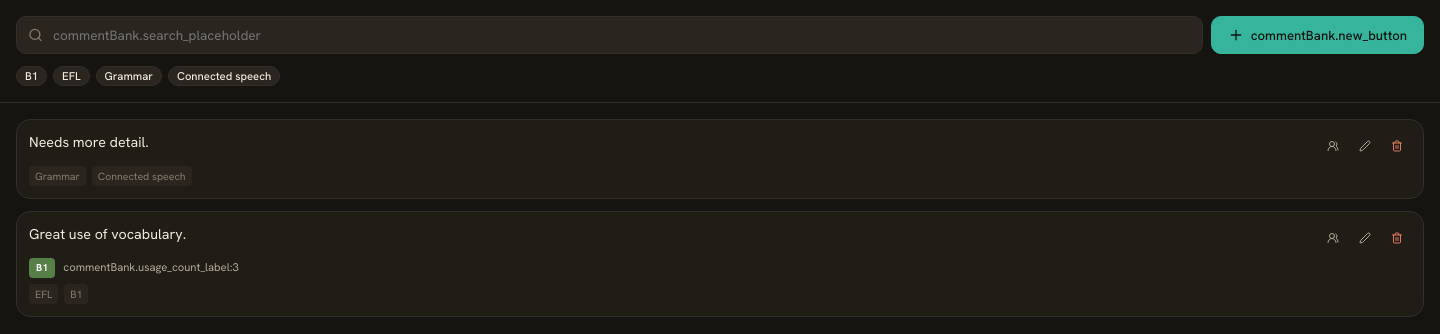
Test: CommentBankManager fullPage sidebar › labels the search box for screen readers
Step 1. Type "Needs" into the field labelled "commentBank.search_placeholder" → (609, 35), box top-left (16, 16), bottom-right (1203, 54)
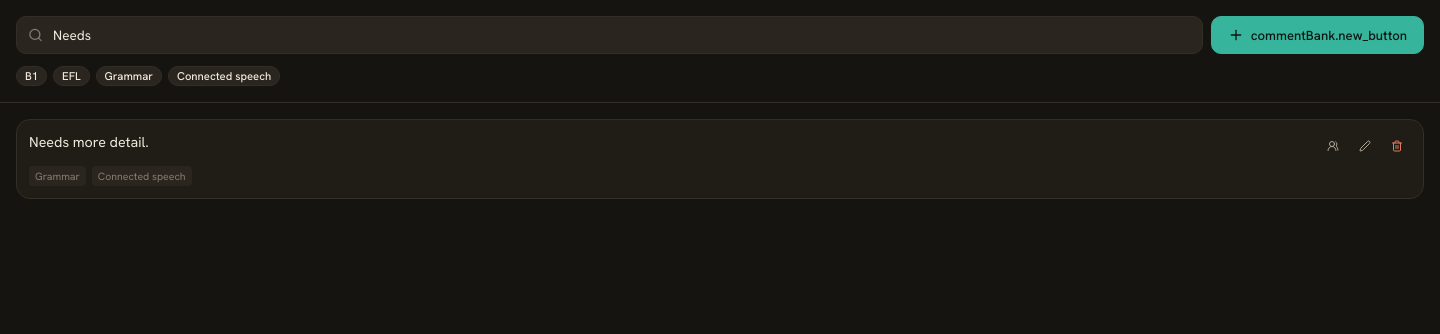
Expected: the text "Needs more detail." is shown, top-left (29, 133), bottom-right (149, 151)
Result: the text "Great use of vocabulary." is gone
